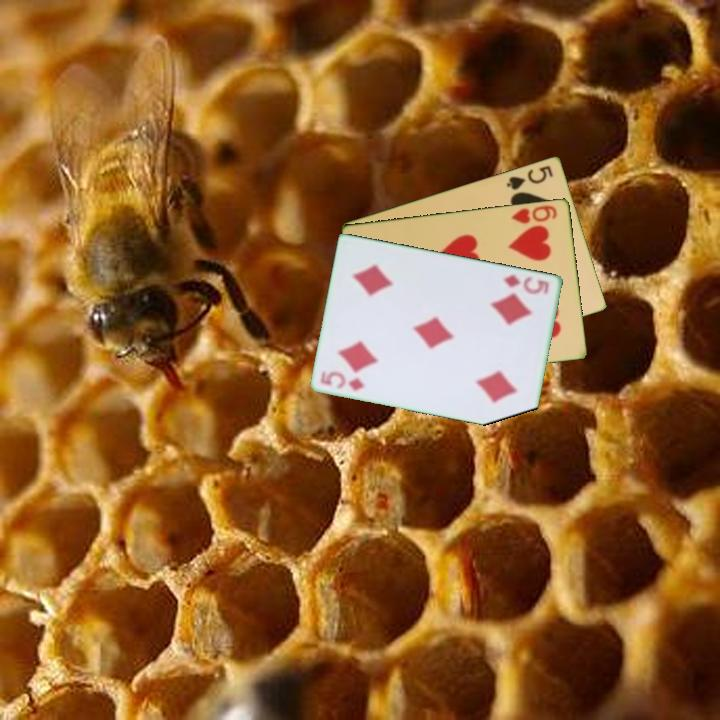5d: (499, 271, 552, 297), (317, 367, 368, 394)
5s: (503, 162, 556, 192)
6h: (508, 201, 560, 226)
